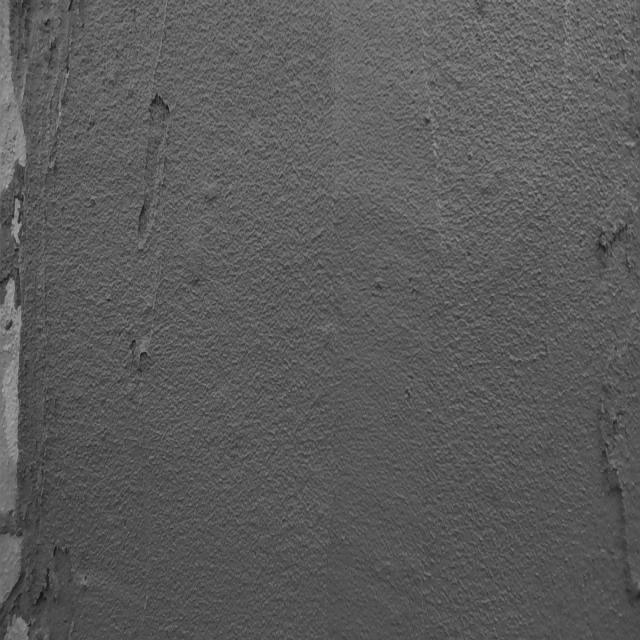trowels marks: (604, 205, 635, 619)
